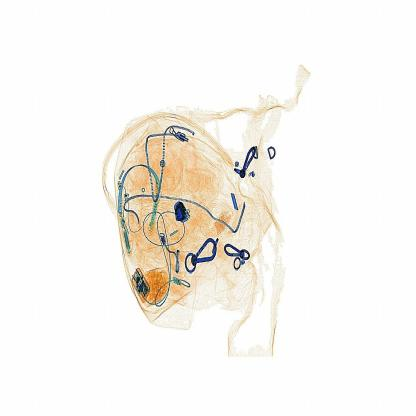scissors: (168, 193, 201, 230)
